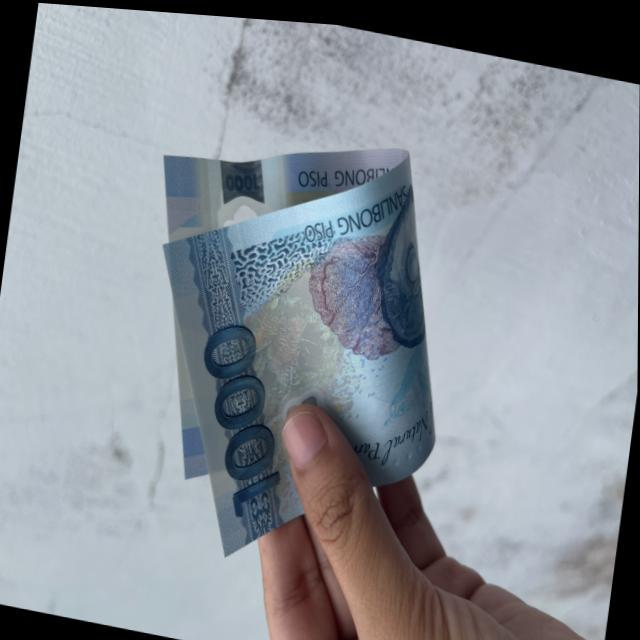clear_window: (194, 137, 288, 239)
